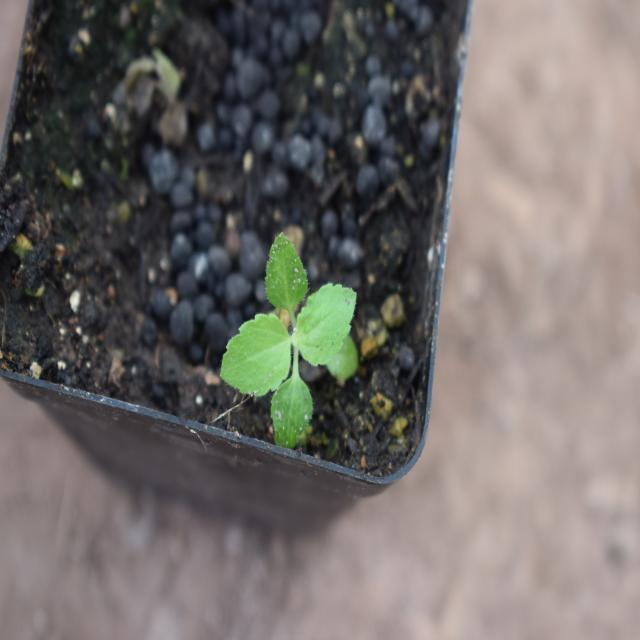billygoat_weed: (227, 243, 368, 437)
